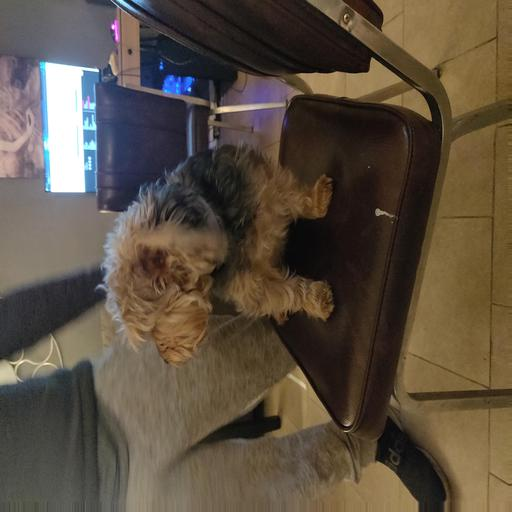dog: (102, 133, 320, 351)
